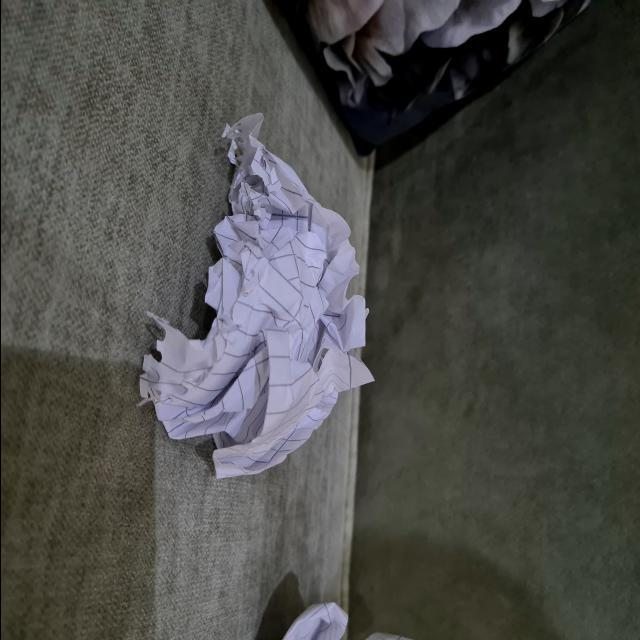Paper: (130, 102, 376, 491)
